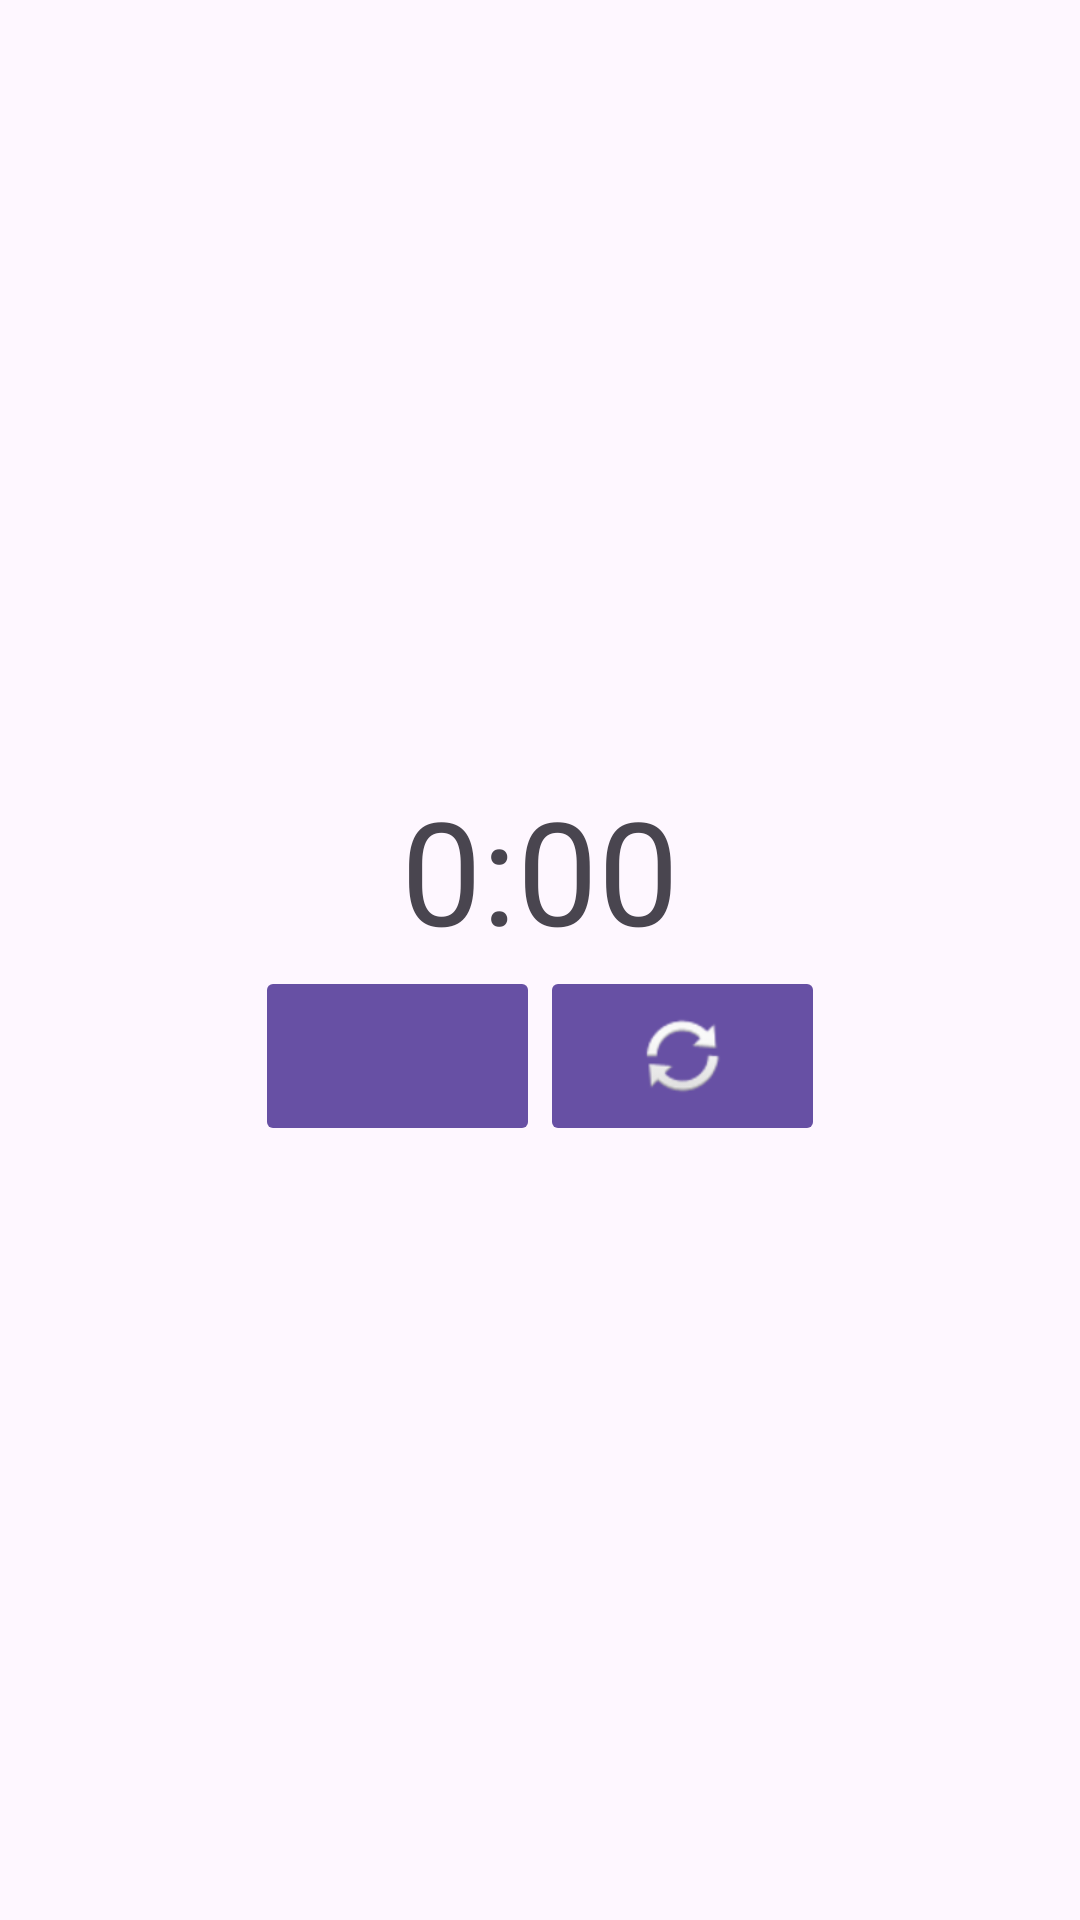

Where icons sit on this 1080 × 1920 app screen, as (x1, y1, x2, y2):
Reset: (552, 984, 813, 1128)
